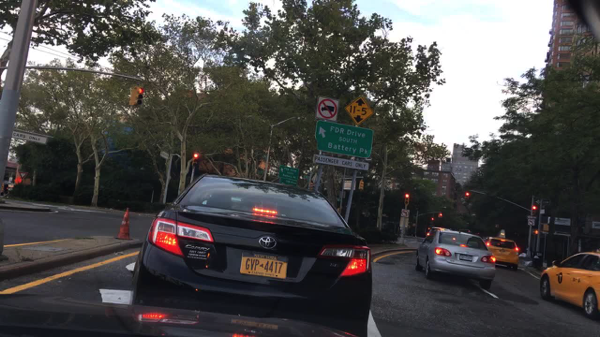car: (133, 171, 373, 333), (413, 228, 495, 288), (538, 251, 598, 317), (484, 228, 522, 270)
traffic light: (128, 85, 146, 109), (192, 151, 198, 166), (403, 193, 409, 205), (359, 179, 364, 190), (542, 225, 548, 232), (464, 191, 469, 199), (533, 229, 538, 235), (437, 213, 443, 217), (532, 205, 536, 211)
traffic sign: (313, 119, 374, 159), (311, 154, 369, 172), (344, 96, 373, 125), (316, 93, 340, 123), (13, 131, 50, 144), (278, 165, 300, 186), (548, 216, 571, 225), (341, 180, 356, 191), (429, 226, 449, 234), (399, 217, 410, 229), (18, 169, 28, 179), (260, 161, 270, 170), (159, 150, 169, 159), (535, 199, 550, 205), (13, 176, 23, 185), (401, 208, 410, 217), (527, 219, 535, 225), (525, 215, 536, 219)
